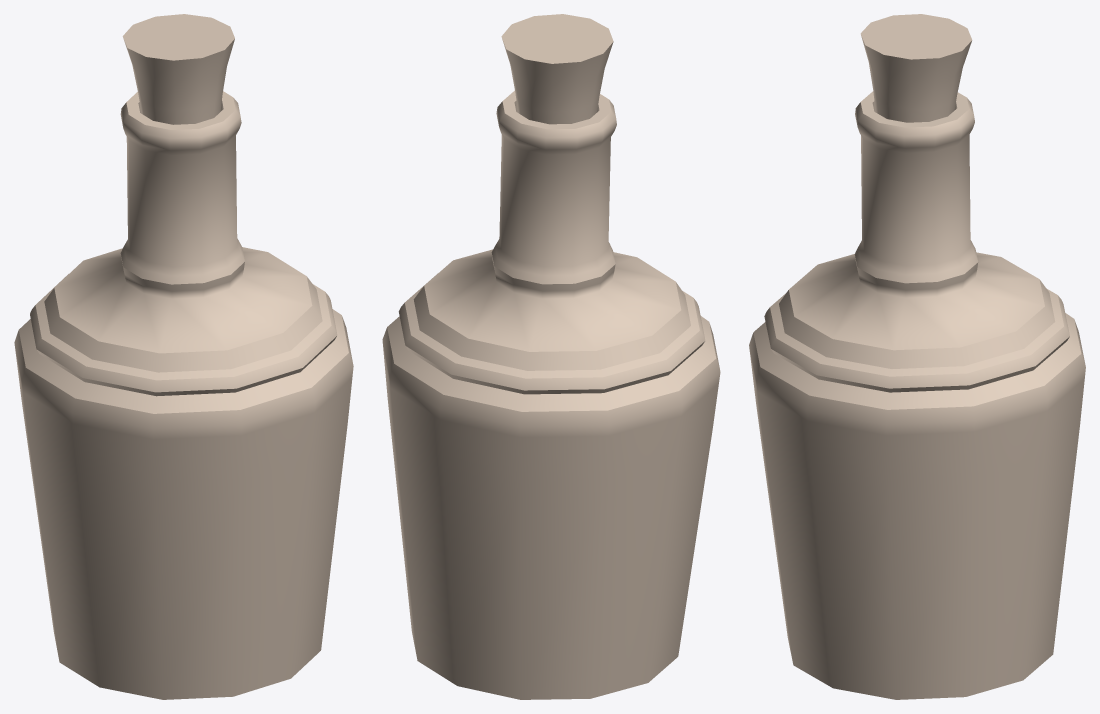
Rendered from wine bottle.fbx.
3 views of the same model, side by side, from view 1: azimuth 30°, elevation 25°; view 2: azimuth 150°, elevation 25°; view 3: azimuth 270°, elevation 25° (orthographic).
Visible parts, largest first — view 1: Cylinder003; view 2: Cylinder003; view 3: Cylinder003.
Boxes of the visible parts, left/top/right/bottom form: Cylinder003: left=14, top=14, right=353, bottom=699; Cylinder003: left=382, top=14, right=720, bottom=699; Cylinder003: left=749, top=14, right=1085, bottom=699.
Bounding box in the file's own units: 34.28 × 68.22 × 34.29.
